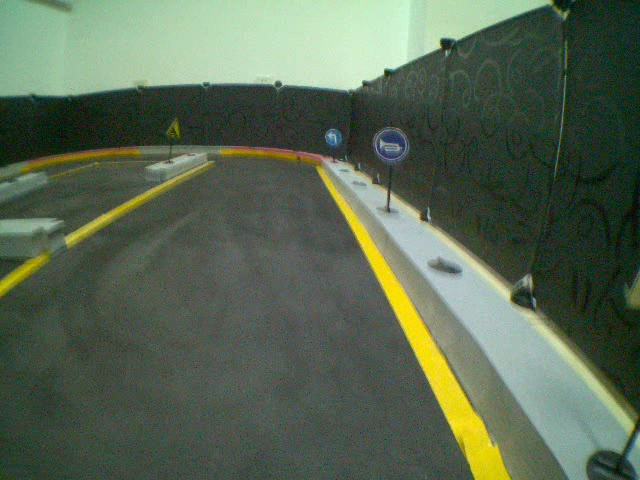fast: (164, 116, 183, 141)
horn: (372, 126, 410, 164)
turn: (323, 125, 342, 149)
